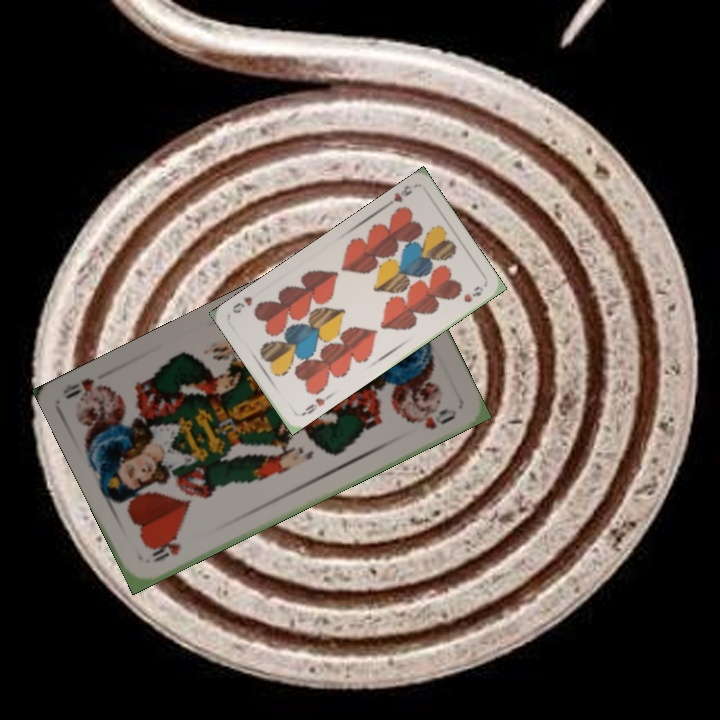H9: (297, 391, 333, 419), (381, 181, 415, 209)
HO: (147, 534, 184, 565)
